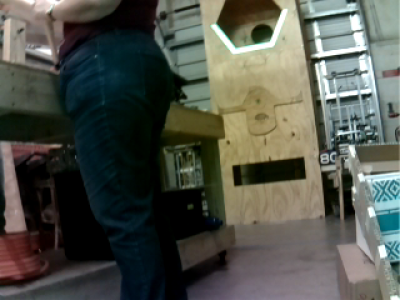target: (211, 9, 290, 55)
